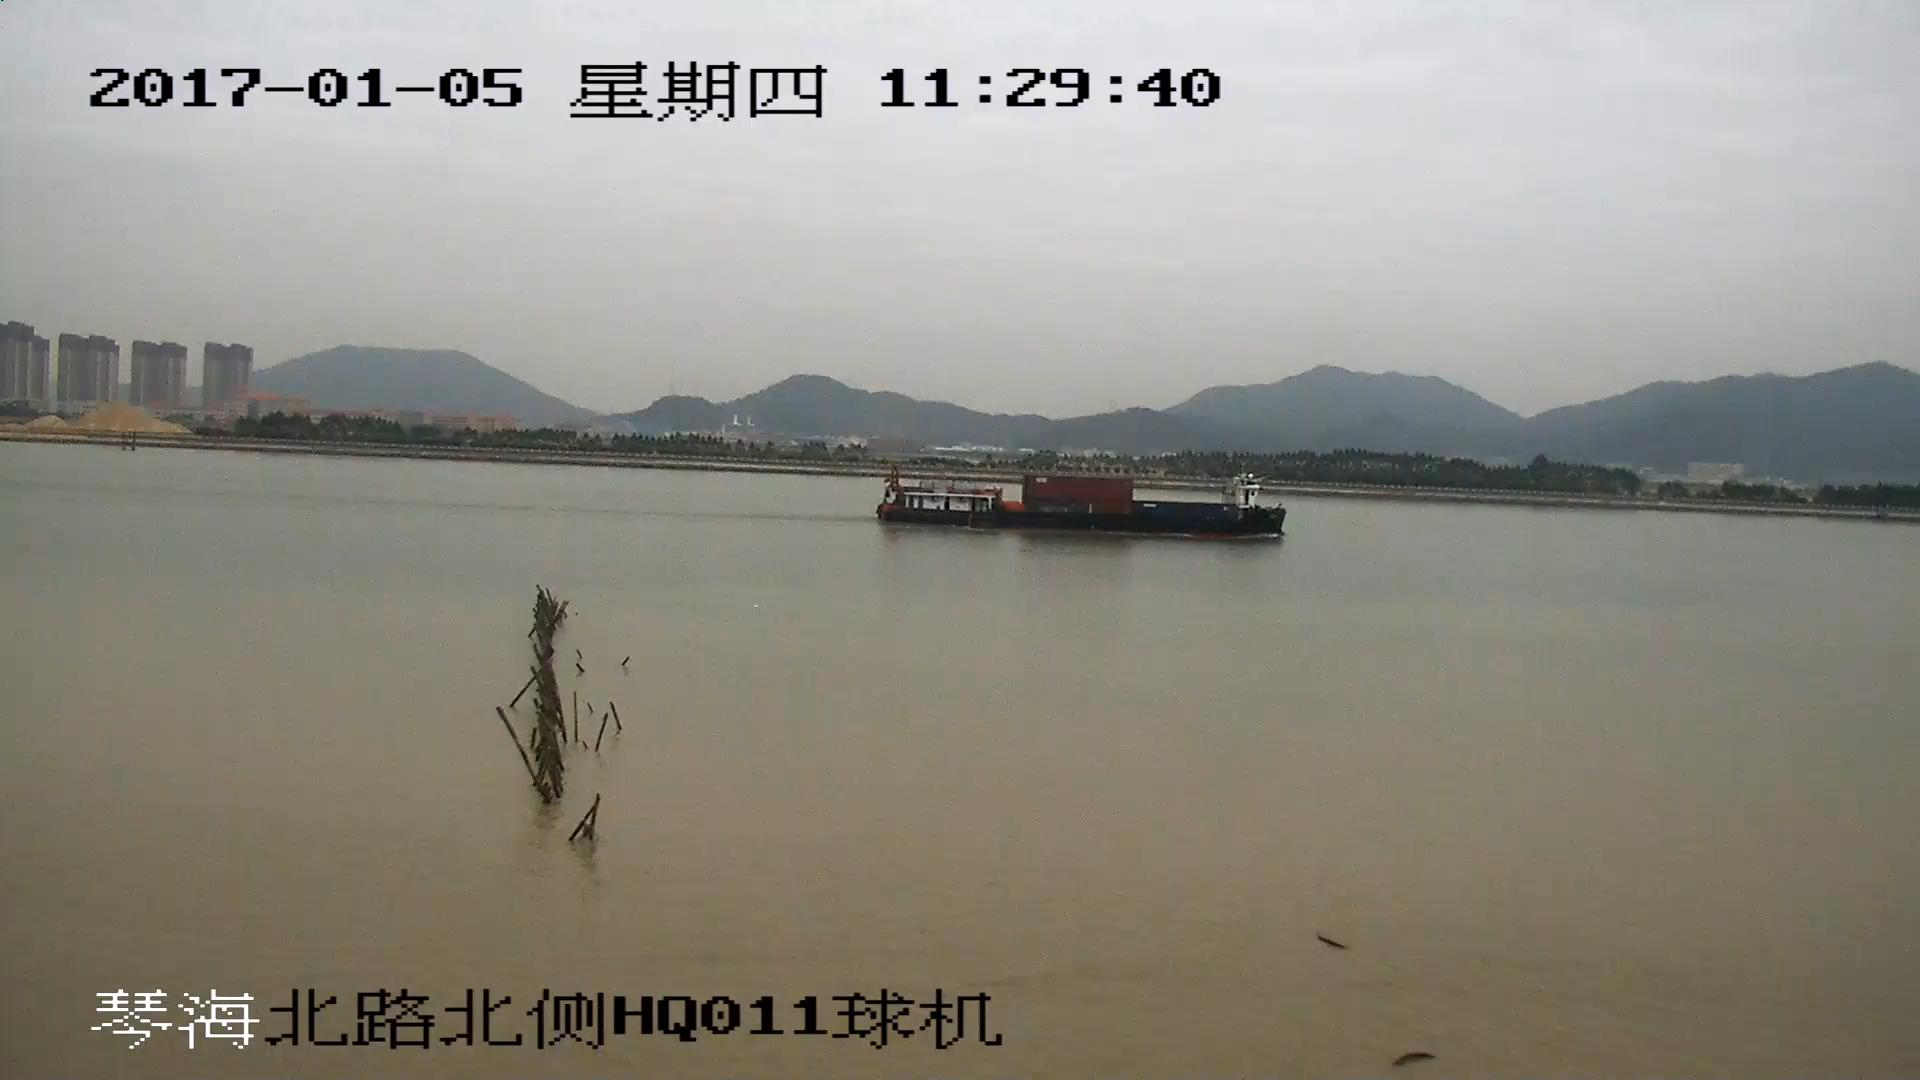container ship: (878, 461, 1287, 540)
